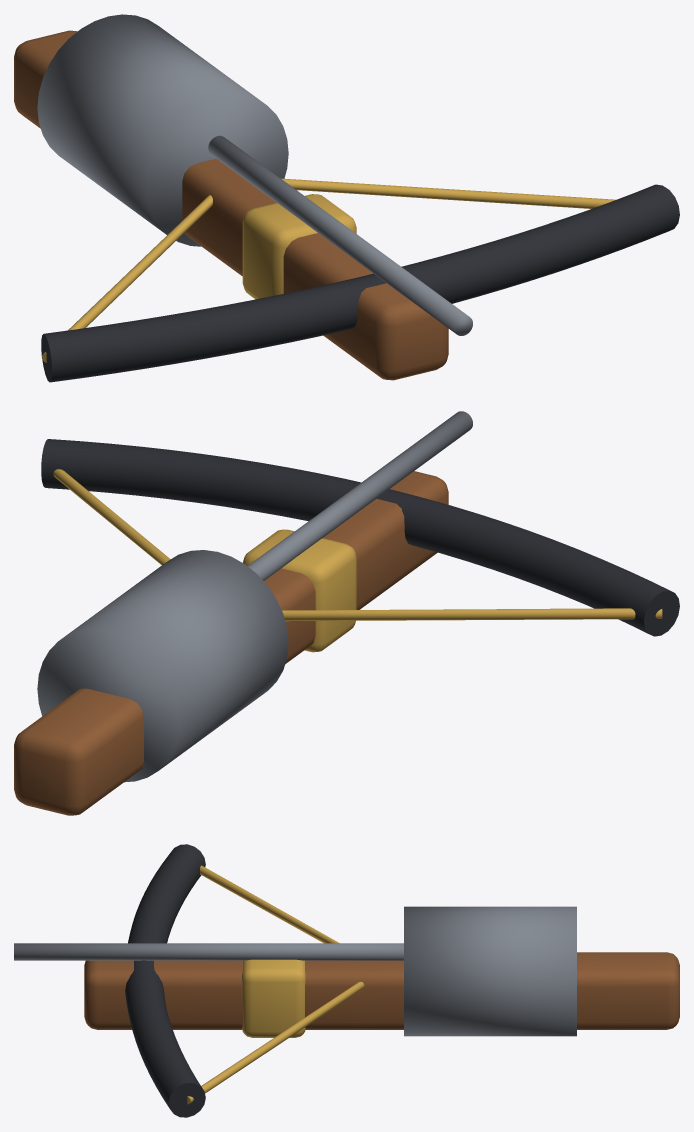
File: w_crossbow.glb
3 renders of one model, top to bottom at view 1: azimuth 30°, elevation 25°; view 2: azimuth 150°, elevation 25°; view 3: azimuth 270°, elevation 25°, orthographic. The views are drawn at different scales.
Parts seen in each view (by area): view 1: weapon; view 2: weapon; view 3: weapon.
Boxes of the visible parts, box(x1,y1,x2,y2) form: weapon: box(14, 14, 679, 382); weapon: box(14, 411, 679, 815); weapon: box(14, 844, 679, 1117).
Bounding box in the file's own units: 0.5306 × 0.12 × 0.615.
